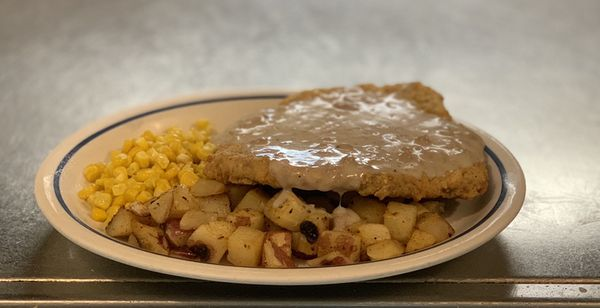curry: (3, 1, 592, 308)
